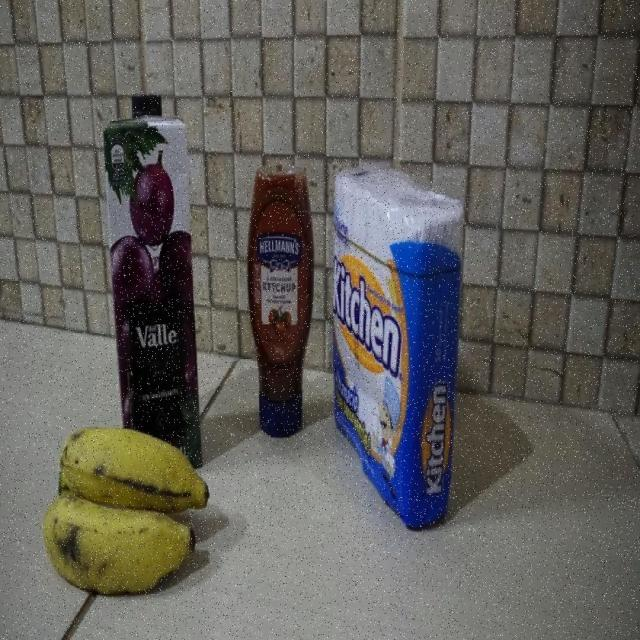Banana: (42, 426, 212, 596)
Ketchup: (247, 164, 315, 438)
Napkin: (331, 162, 465, 530)
